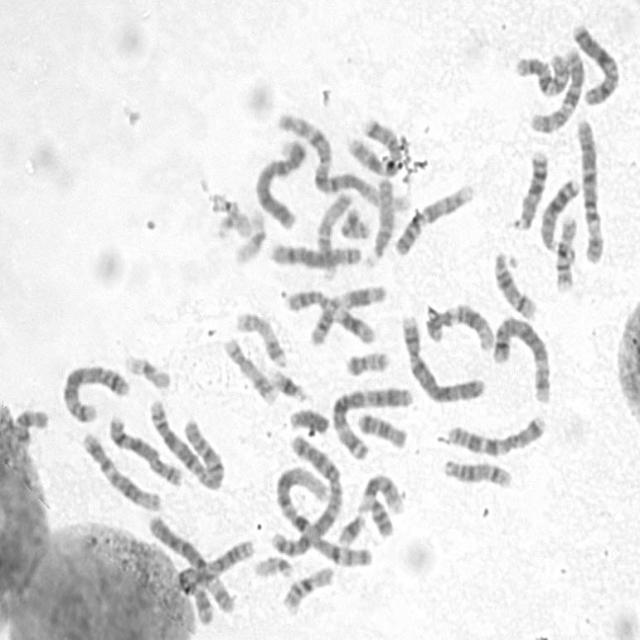A1: (273, 108, 408, 214), (271, 460, 375, 567)
A2: (270, 432, 344, 560), (146, 392, 227, 491)
A3: (329, 381, 415, 462), (180, 538, 258, 626)
B4: (399, 311, 487, 404), (252, 134, 309, 231)
B5: (489, 311, 553, 406), (60, 358, 131, 424)
C10: (526, 42, 586, 134), (512, 47, 572, 99)
C11: (284, 284, 379, 344), (306, 282, 387, 346)
C12: (79, 427, 164, 512), (421, 299, 495, 353)
C6: (144, 509, 237, 616), (573, 113, 608, 264)
C7: (443, 410, 549, 457), (346, 116, 404, 178)
C8: (105, 411, 185, 488), (265, 236, 365, 270)
C9: (392, 179, 475, 257), (359, 470, 406, 535)
D13: (537, 174, 582, 253), (509, 145, 550, 231)
D14: (490, 246, 539, 320), (439, 454, 515, 490)
D15: (313, 186, 354, 278), (361, 172, 398, 270)
E16: (279, 562, 336, 613), (552, 212, 580, 294)
E17: (222, 332, 280, 406), (232, 307, 289, 368)
E18: (353, 408, 409, 449), (10, 404, 50, 448)
F19: (231, 206, 269, 266), (121, 350, 173, 391)
F20: (342, 346, 392, 377), (337, 204, 372, 241)
G21: (266, 363, 309, 403), (335, 509, 367, 548)
G22: (213, 206, 253, 240), (250, 551, 295, 580)
X: (568, 20, 622, 106)
Y: (286, 404, 332, 436)
